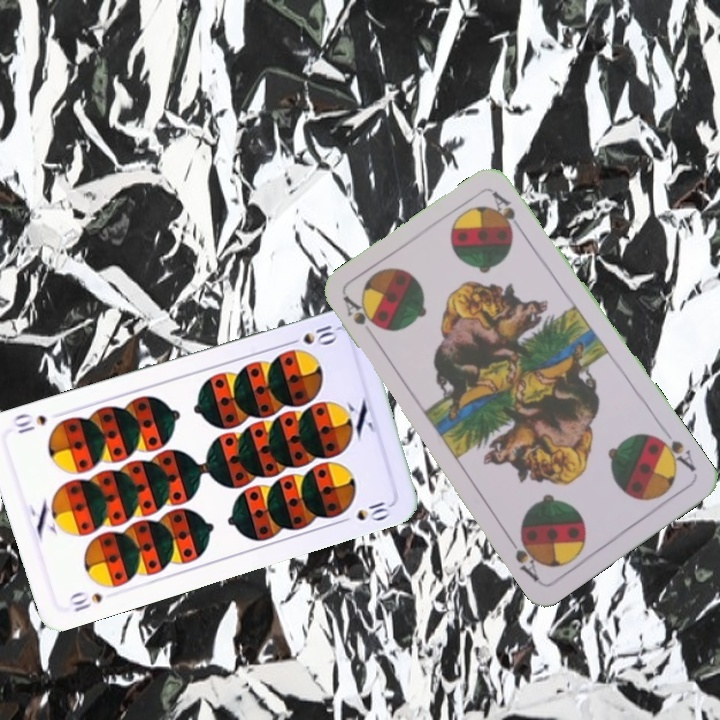S10: (283, 321, 340, 348), (69, 589, 105, 615)
SA: (650, 424, 699, 474), (339, 292, 381, 344)
